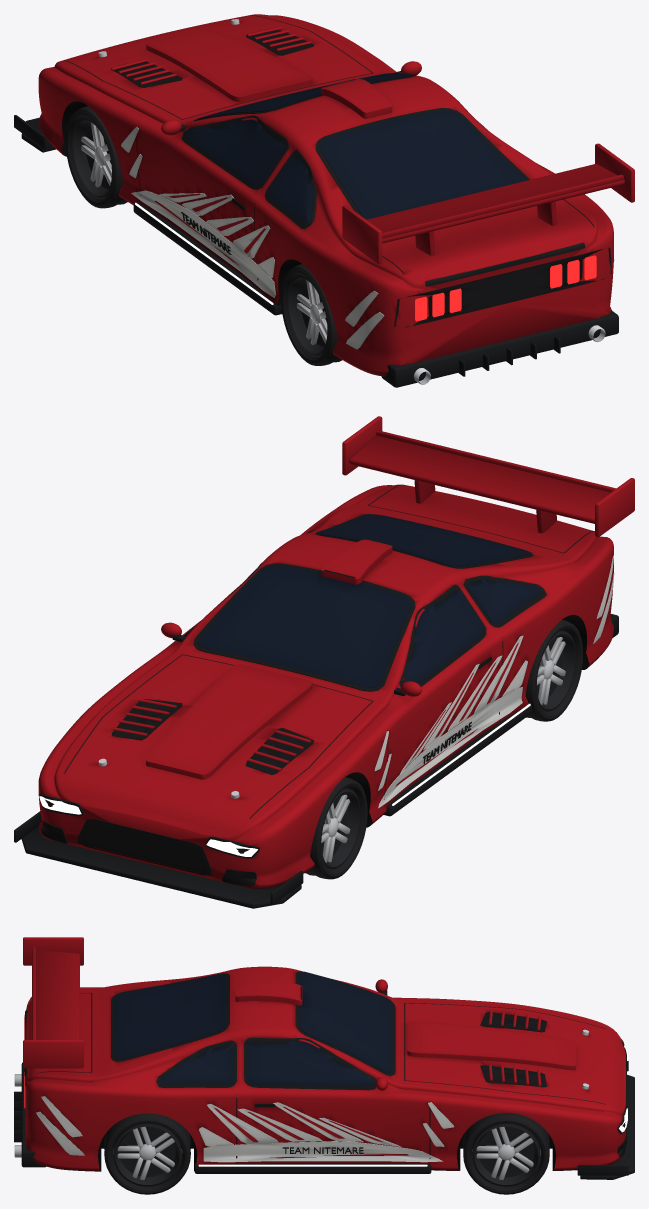
File: nitemare.glb
The picture shows the model from 3 angles, top to bottom: view 1: azimuth 30°, elevation 25°; view 2: azimuth 150°, elevation 25°; view 3: azimuth 270°, elevation 25°; orthographic projection. The views are drawn at different scales.
Parts seen in each view (by area): view 1: body, wheel_FL, wheel_RL; view 2: body, wheel_FL, wheel_RL; view 3: body, wheel_FR, wheel_RR.
Part boxes in pixels (<box>): body: <box>14,14,634,387</box>; wheel_FL: <box>65,106,127,208</box>; wheel_RL: <box>281,264,342,365</box>; body: <box>14,416,634,908</box>; wheel_FL: <box>305,777,367,879</box>; wheel_RL: <box>525,619,582,721</box>; body: <box>14,937,634,1179</box>; wheel_FR: <box>463,1113,549,1194</box>; wheel_RR: <box>104,1113,190,1194</box>.
Bounding box in the file's own units: 1.98 × 1.35 × 4.88.
